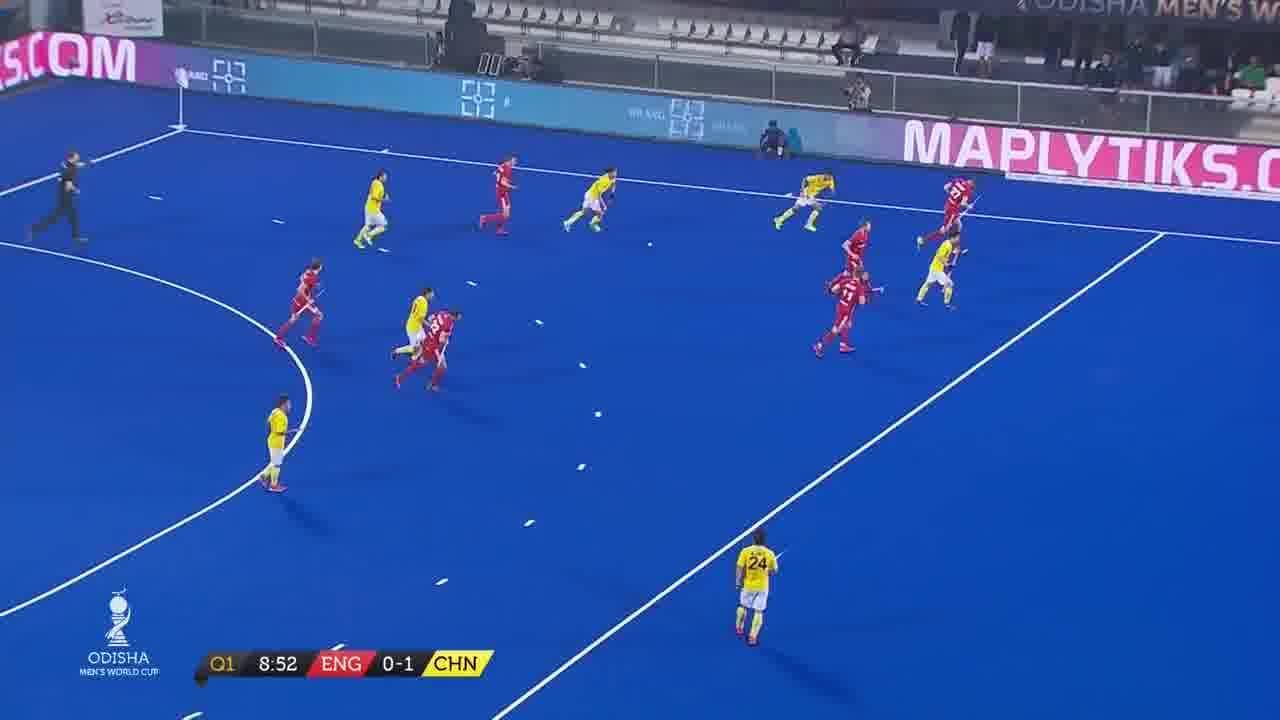ball: (647, 242, 653, 249)
